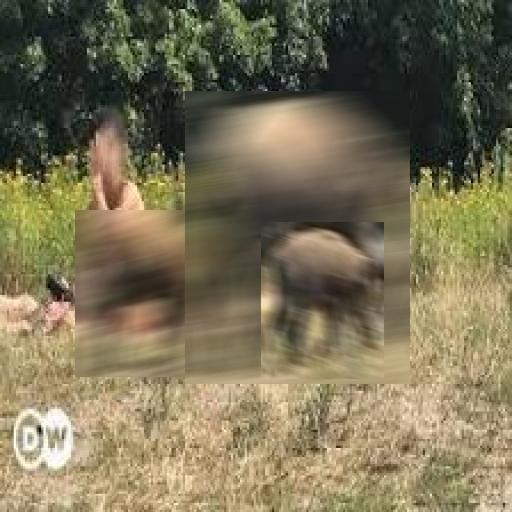Pig: (185, 91, 410, 384), (75, 210, 206, 377), (261, 222, 384, 379)
